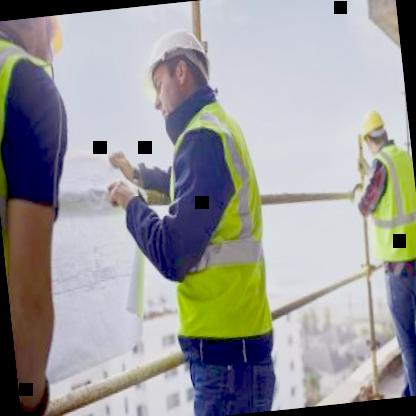helmet: (130, 16, 222, 125), (0, 14, 74, 84), (354, 104, 392, 163)
